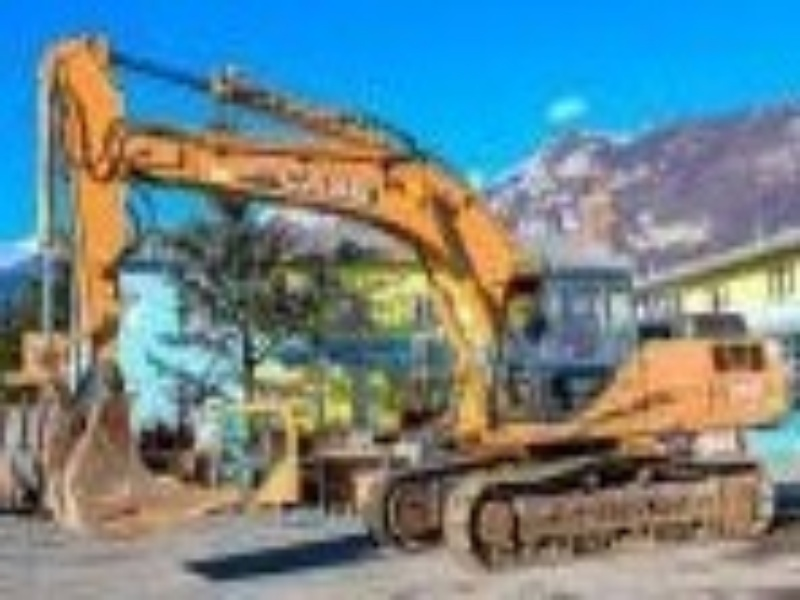wajueji: (346, 215, 800, 597)
